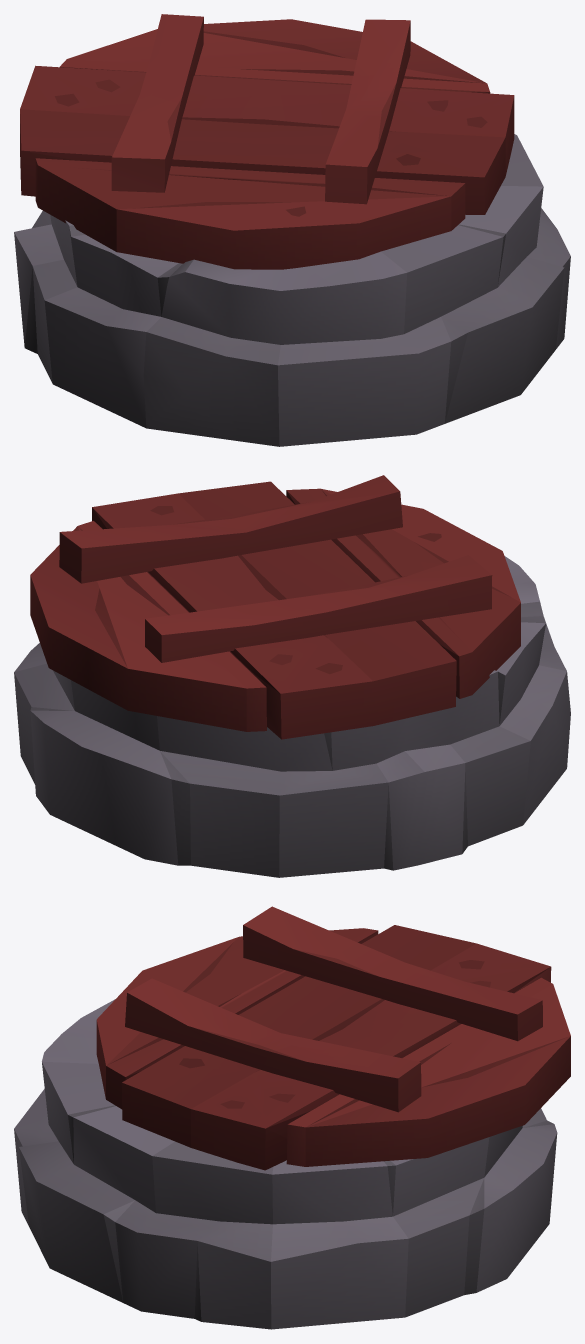
Rendered from well.glb.
3 views of the same model, one above another, from view 1: azimuth 30°, elevation 25°; view 2: azimuth 150°, elevation 25°; view 3: azimuth 270°, elevation 25° (orthographic). The views are drawn at different scales.
Parts seen in each view (by area): view 1: well; view 2: well; view 3: well.
Boxes of the visible parts, <box> form: well: <box>14,14,570,446</box>; well: <box>14,475,570,877</box>; well: <box>14,906,570,1329</box>.
Size of the model in its own units: 1.97 by 0.8936 by 2.02.
1 material, 1 textured.
